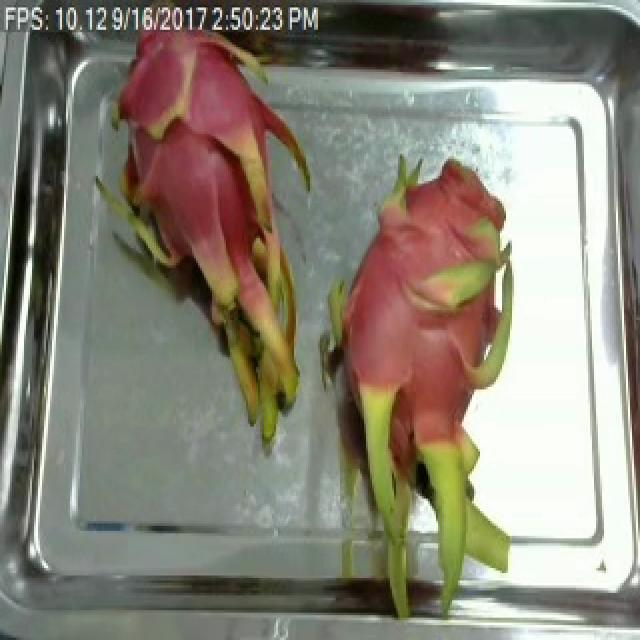Fruit: (354, 144, 514, 337)
